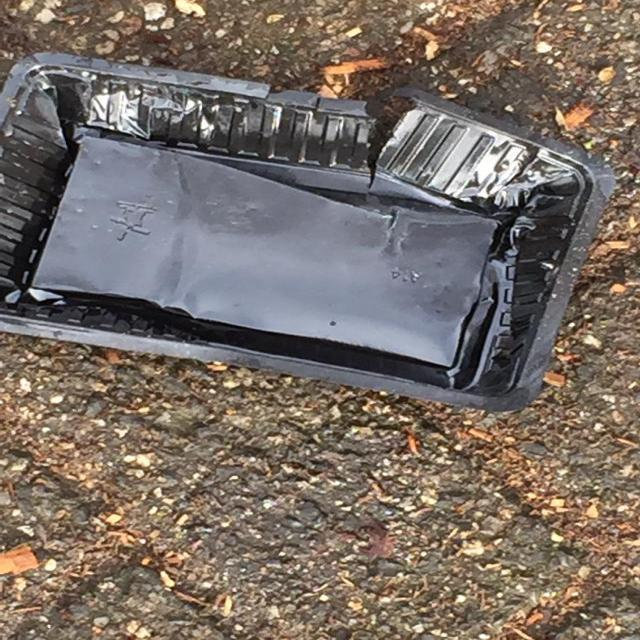Plastic: (0, 48, 615, 418)
